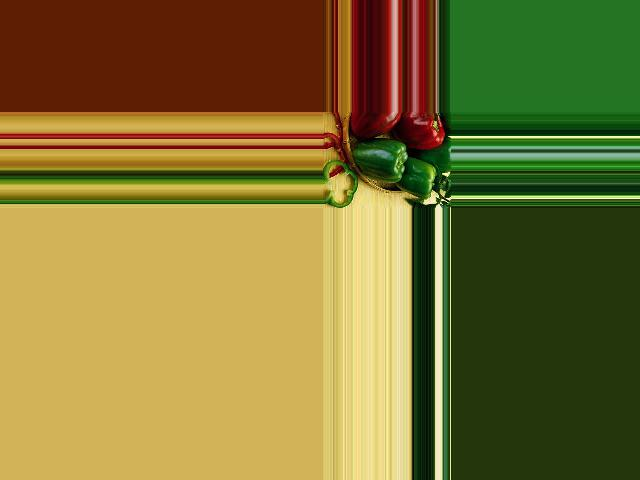bell_pepper: (349, 112, 402, 136)
